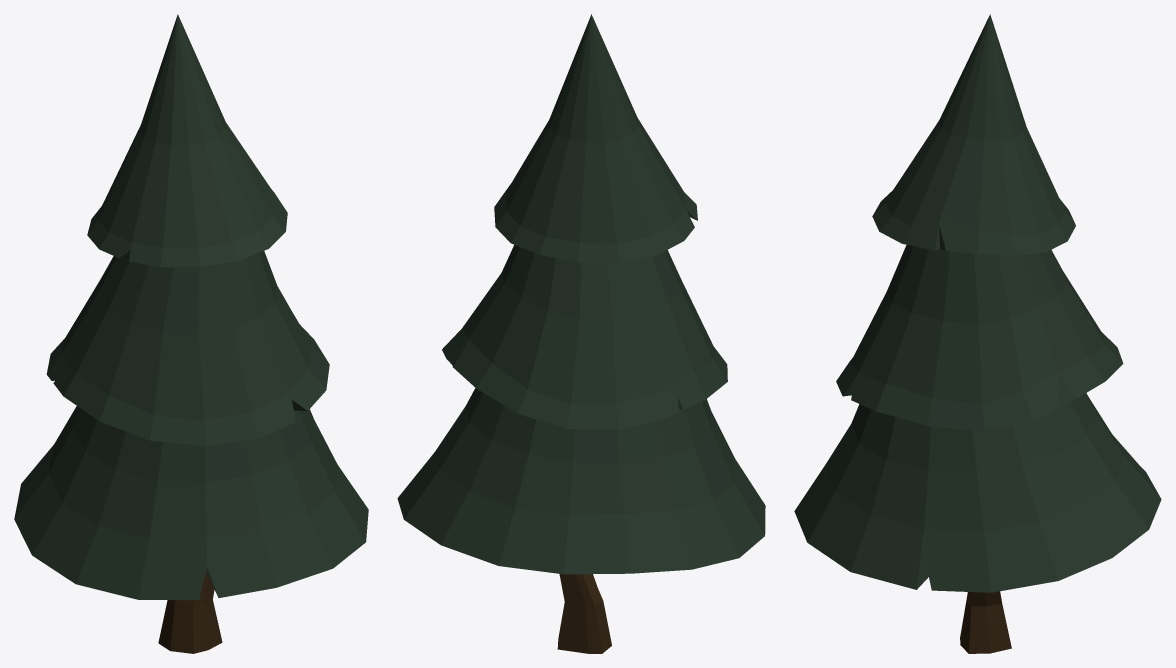
The model's file is Tree_Pine_1.fbx.
3 views of the same model, side by side, from view 1: azimuth 30°, elevation 25°; view 2: azimuth 150°, elevation 25°; view 3: azimuth 270°, elevation 25° (orthographic).
Visible parts, largest first — view 1: Pine1; view 2: Pine1; view 3: Pine1.
Boxes of the visible parts, x1,y1,x2,y2 form: Pine1: [14, 14, 368, 653]; Pine1: [397, 14, 765, 653]; Pine1: [794, 14, 1161, 653].
Size of the model in its own units: 2.56 by 4.91 by 2.62.
